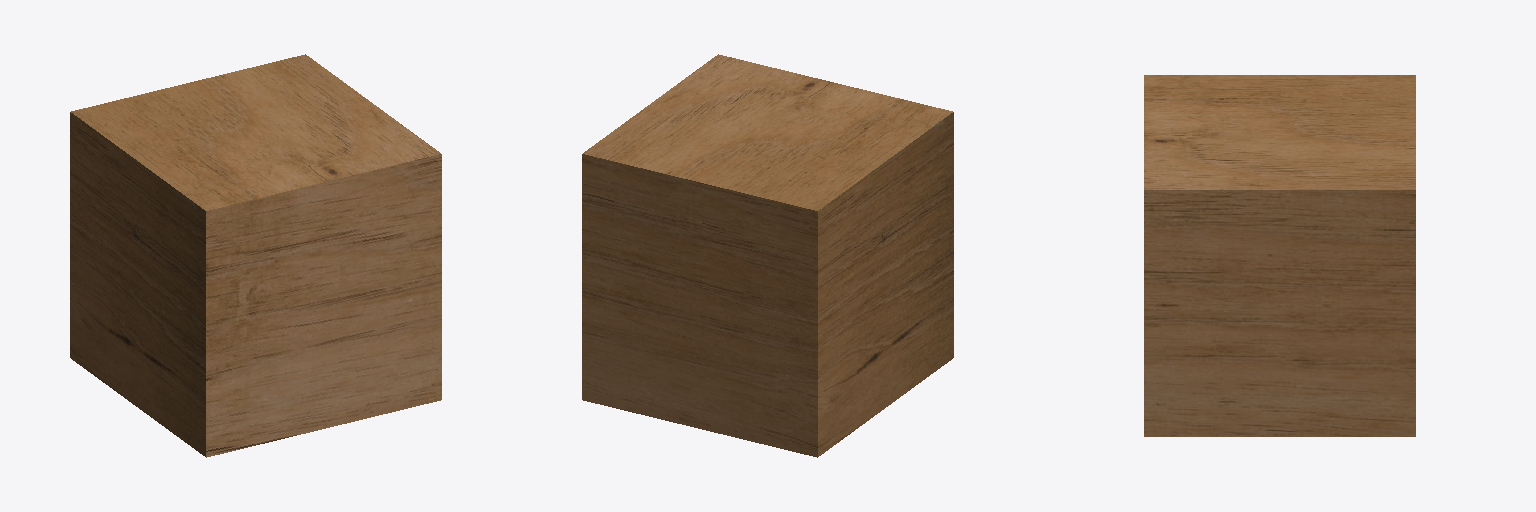
3 views of the same model, side by side, from view 1: azimuth 30°, elevation 25°; view 2: azimuth 150°, elevation 25°; view 3: azimuth 270°, elevation 25° (orthographic).
Parts seen in each view (by area): view 1: Cube; view 2: Cube; view 3: Cube.
Part boxes in pixels (x1,y1,x2,y2): Cube: (70, 54, 441, 457); Cube: (582, 54, 953, 457); Cube: (1144, 75, 1415, 436).
Size of the model in its own units: 2 by 2 by 2.
1 materials, 1 textured.